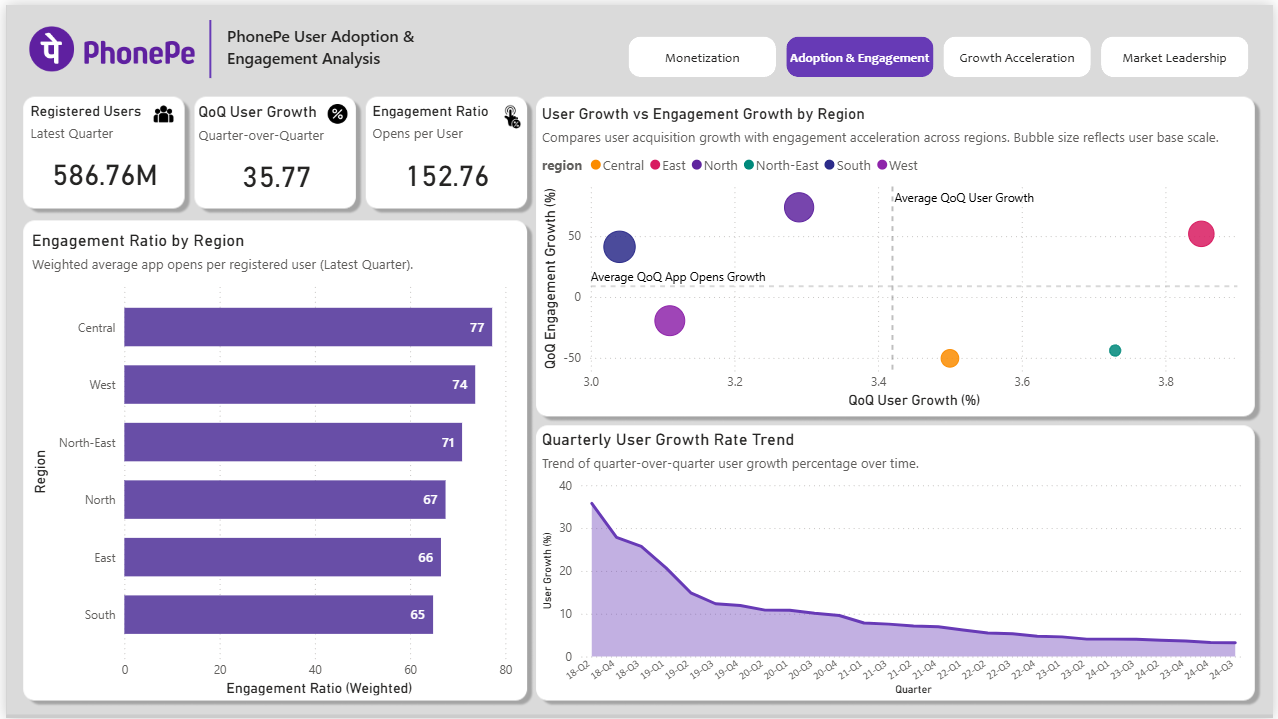

Layout of this report page (visuals, bound fields, positions):
{"tool":"powerbi","page":{"name":"Adoption & Engagement","canvas":[1280,720],"ordinal":1},"visuals":[{"type":"card","title":"Registered Users","fields":{"Values":["Max(vw_national_user_growth.total_registered_users)"]},"box":[19.1,98.3,158.5,104.2],"z":0},{"type":"card","title":"QoQ User Growth ","fields":{"Values":["Max(vw_national_user_growth.qoq_user_growth_percent)"]},"box":[189.3,98.3,167.3,105.7],"z":1000},{"type":"card","title":"Engagement Ratio","fields":{"Values":["Max(vw_engagement_intensity.engagement_ratio)"]},"box":[365.4,98.3,159.9,105.7],"z":2000},{"type":"areaChart","title":"Quarterly User Growth Rate Trend","fields":{"Category":["dim_time.short_year_quarter"],"Y":["Max(vw_national_user_growth.qoq_user_growth_percent)"]},"box":[536.7,428.3,720,273.3],"z":3000},{"type":"clusteredBarChart","title":"Engagement Ratio by Region","fields":{"Category":["vw_engagement_intensity.region"],"Y":["Measure_Table.Engagement Ratio (Weighted)"]},"box":[21.7,226.7,503.3,475],"z":4000},{"type":"scatterChart","title":"User Growth vs Engagement Growth by Region","fields":{"X":["vw_regional_user_growth.qoq_user_growth_percent"],"Y":["vw_regional_user_growth.qoq_app_opens_growth_percent"],"Series":["vw_regional_user_growth.region"],"Size":["Sum(vw_regional_user_growth.total_registered_users)"]},"box":[536.7,100,720,311.7],"z":5000},{"type":"image","box":[19.1,14.7,174.6,58.7],"z":6000},{"type":"pageNavigator","box":[628.1,32.3,626.6,41.1],"z":7000},{"type":"shape","box":[193.7,14.7,24.9,58.7],"z":8000},{"type":"textbox","box":[218.6,14.7,255.3,58.7],"z":9000},{"type":"image","box":[324.3,100,21.4,20],"z":9001},{"type":"image","box":[496.4,100,29.3,25.7],"z":9002},{"type":"image","box":[148.8,100,21.8,20],"z":9003}]}

Visuals, with their boxes in screenshot pixels (x1, y1, x2, y2), scaled from the page's 1280x720 canvas onto the 1278x719 screenshot:
"Registered Users" card: [19,98,177,202]
"QoQ User Growth " card: [189,98,356,204]
"Engagement Ratio" card: [365,98,524,204]
"Quarterly User Growth Rate Trend" areaChart: [536,428,1255,701]
"Engagement Ratio by Region" clusteredBarChart: [22,226,524,701]
"User Growth vs Engagement Growth by Region" scatterChart: [536,100,1255,411]
image: [19,15,193,73]
pageNavigator: [627,32,1253,73]
shape: [193,15,218,73]
textbox: [218,15,473,73]
image: [324,100,345,120]
image: [496,100,525,126]
image: [149,100,170,120]
